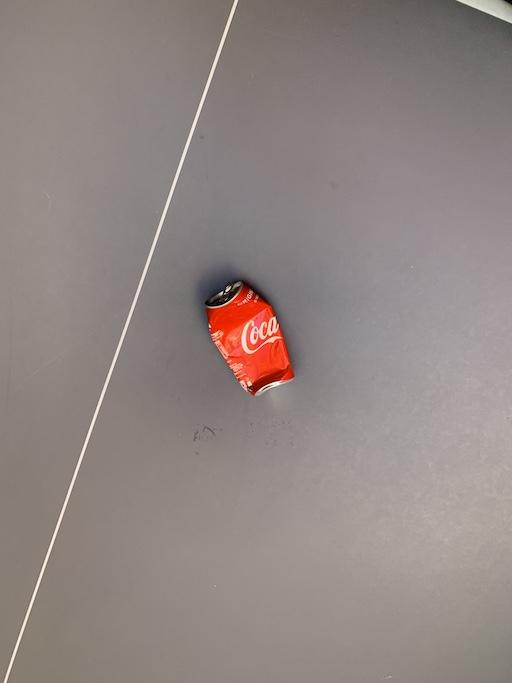Aluminum can: (188, 261, 306, 414)
